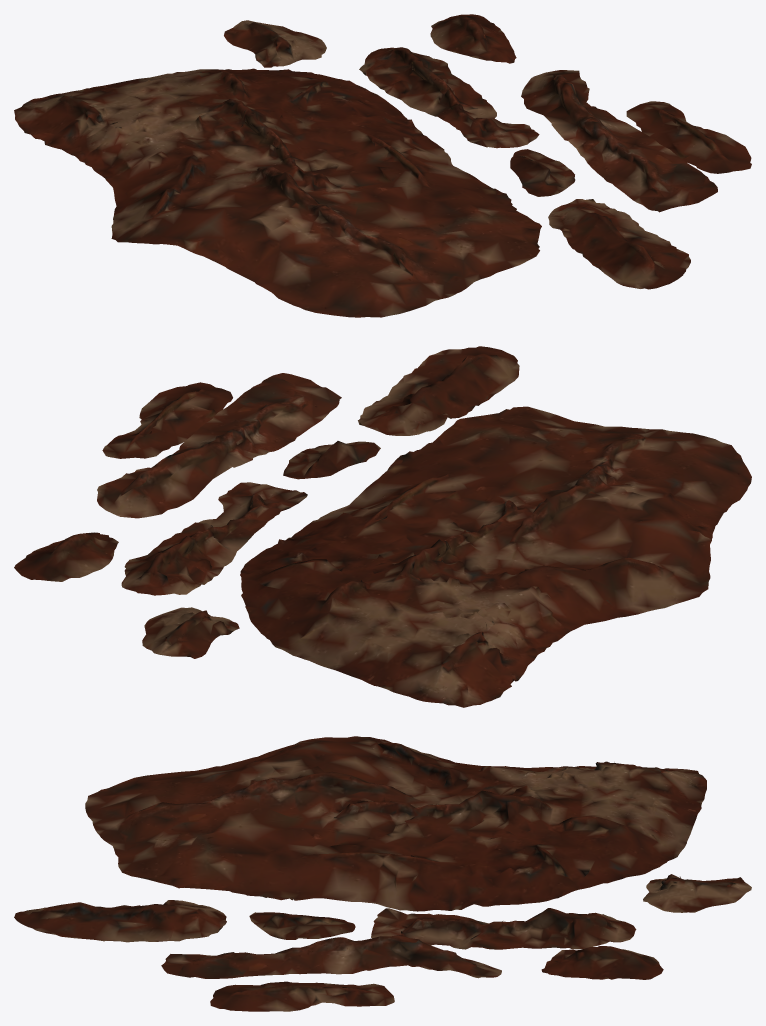
File: root_cluster_02.glb
3 views of the same model, one above another, from view 1: azimuth 30°, elevation 25°; view 2: azimuth 150°, elevation 25°; view 3: azimuth 270°, elevation 25° (orthographic). The views are drawn at different scales.
Parts seen in each view (by area): view 1: root_cluster_02_d; view 2: root_cluster_02_d; view 3: root_cluster_02_d.
Boxes of the visible parts, bbox=[...] form: root_cluster_02_d: bbox=[14, 14, 751, 317]; root_cluster_02_d: bbox=[14, 346, 751, 707]; root_cluster_02_d: bbox=[14, 736, 751, 1011].
Size of the model in its own units: 2.38 by 0.1961 by 2.7.
Materials: 1 (1 with a texture image).
